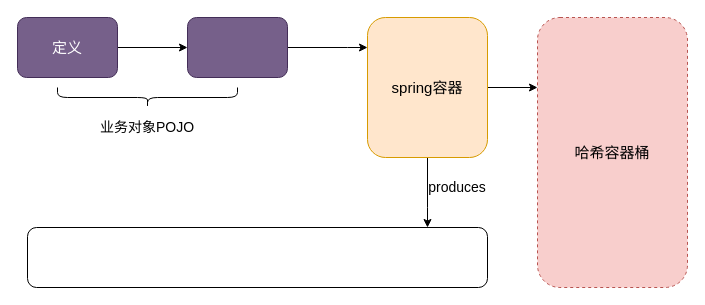
Some shapes in this 705 by 305 pixel diagram are drawn without their labels. The centre of each missing label's shape, as x and y in pixels:
fully configured system ready for use: the point at 257,257
注册: the point at 237,47
